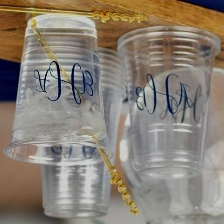glass: (0, 11, 121, 170), (36, 42, 135, 221), (116, 20, 224, 181)
